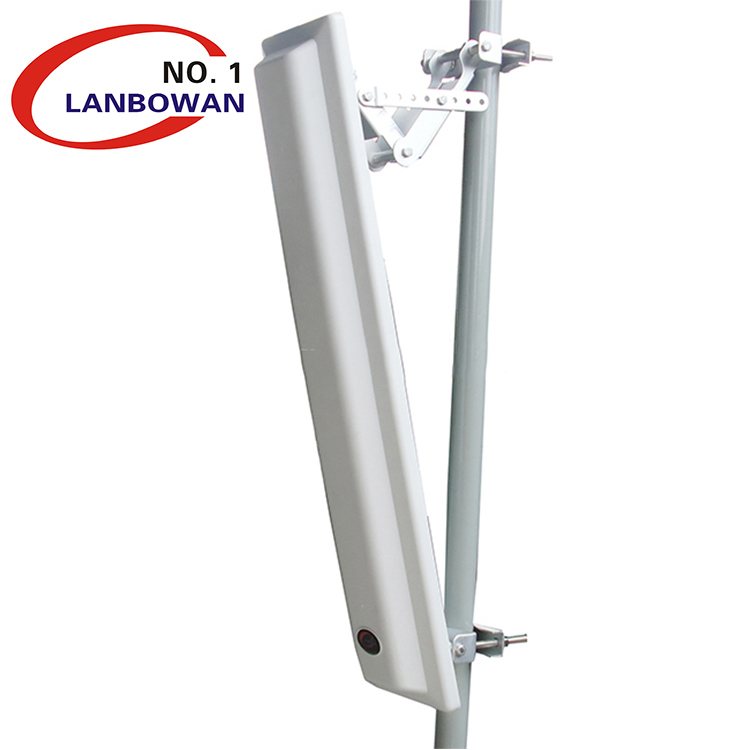sa: (250, 38, 512, 712)
